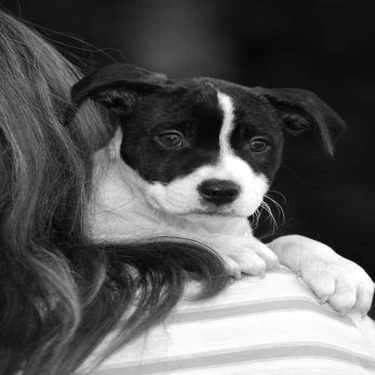dog: (51, 62, 372, 325)
